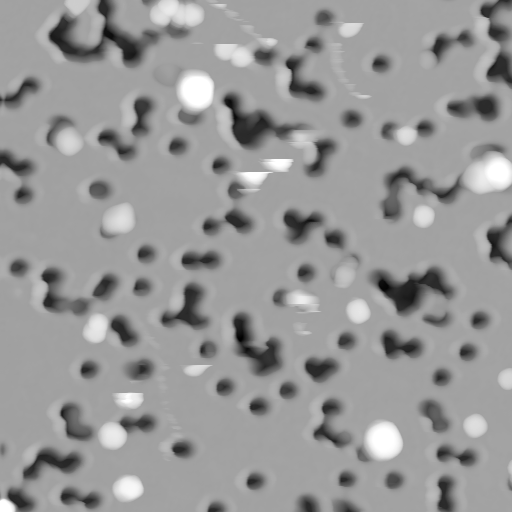Hole: (33, 0, 149, 71), (374, 253, 467, 315), (161, 275, 222, 330), (232, 307, 282, 372), (221, 92, 279, 147), (477, 0, 511, 90), (308, 386, 353, 452), (417, 24, 476, 72), (8, 447, 91, 481), (36, 258, 83, 316), (1, 140, 39, 208), (272, 204, 327, 250), (285, 485, 376, 511), (280, 52, 323, 107), (1, 65, 48, 113), (378, 326, 430, 366), (396, 170, 462, 201), (196, 204, 254, 238), (438, 94, 500, 125), (377, 162, 407, 221), (483, 211, 511, 271), (58, 399, 96, 442), (415, 393, 453, 435), (425, 471, 464, 511), (173, 244, 226, 273), (97, 126, 140, 161), (129, 85, 156, 140), (302, 352, 346, 385), (111, 305, 145, 345), (53, 485, 104, 509), (89, 268, 122, 301), (430, 445, 478, 467), (369, 43, 397, 79), (120, 410, 155, 435), (82, 174, 118, 197), (244, 464, 272, 493), (329, 330, 358, 357), (131, 238, 160, 265), (161, 131, 189, 158), (382, 466, 411, 492), (313, 0, 338, 30), (127, 354, 154, 381), (7, 249, 30, 280), (73, 354, 100, 379), (322, 225, 350, 249), (469, 304, 499, 326), (207, 152, 231, 179), (199, 494, 237, 511), (6, 488, 40, 507), (211, 373, 237, 397), (198, 334, 222, 360), (336, 111, 367, 131), (244, 395, 272, 417), (277, 377, 303, 400), (431, 362, 457, 384), (319, 133, 341, 158), (293, 261, 320, 281), (298, 34, 329, 51), (133, 272, 153, 298), (170, 440, 194, 460), (463, 333, 483, 357), (336, 470, 358, 491), (419, 113, 434, 139), (375, 121, 394, 140)
Particle: (360, 415, 407, 466), (461, 148, 511, 195), (174, 62, 219, 114), (150, 0, 207, 31), (101, 196, 144, 235), (328, 251, 364, 290), (52, 123, 90, 158), (113, 466, 147, 503), (457, 410, 495, 441), (82, 311, 113, 347), (339, 296, 374, 325), (97, 422, 130, 450), (410, 201, 436, 232), (393, 122, 420, 147), (495, 363, 511, 392), (233, 45, 252, 66)
Smear: (328, 38, 373, 104), (233, 155, 298, 195), (155, 359, 187, 432), (283, 283, 322, 338), (287, 124, 322, 170), (220, 0, 245, 59), (111, 385, 150, 408), (337, 13, 367, 40), (181, 359, 214, 378), (213, 37, 242, 57)
